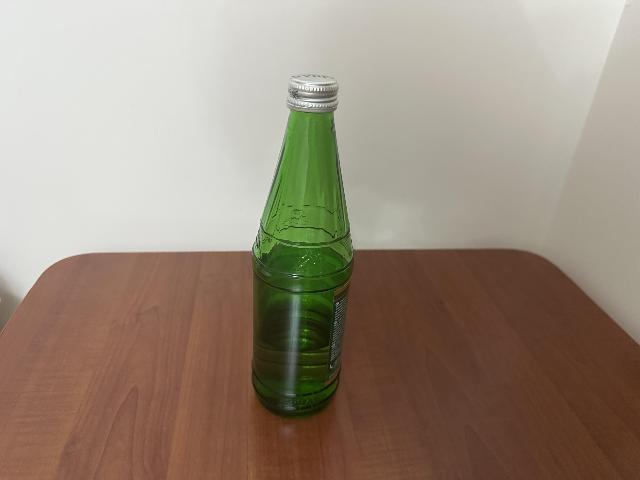Cam: (254, 114, 352, 414)
Metal: (286, 70, 343, 111)
